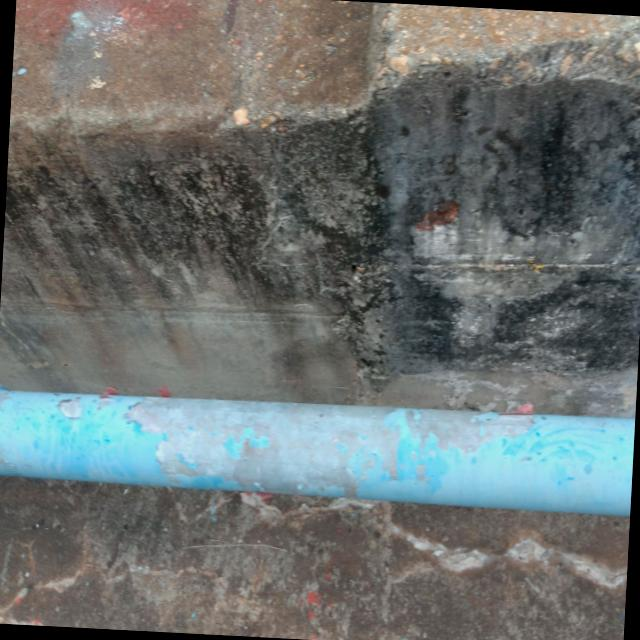gas: (0, 381, 635, 522)
